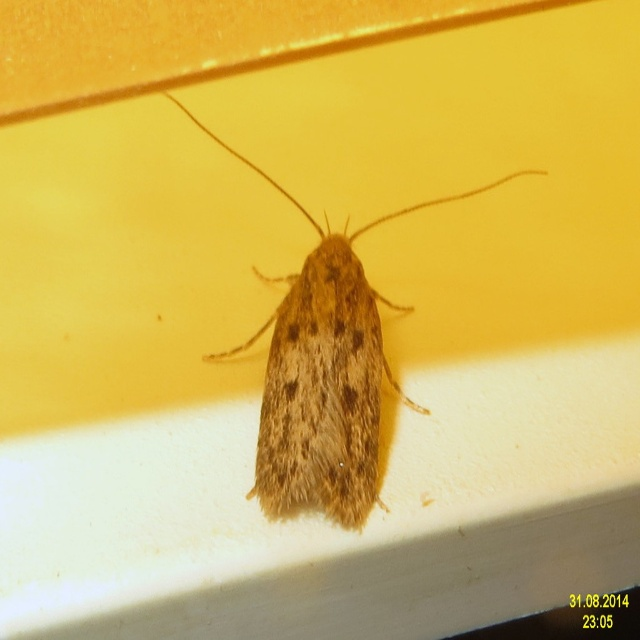Moths and butterflies: (161, 87, 551, 534)
